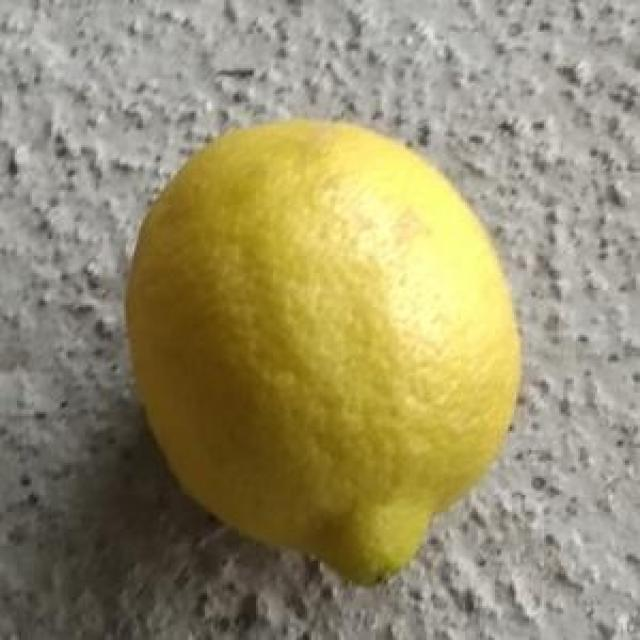lemon: (116, 112, 524, 588)
